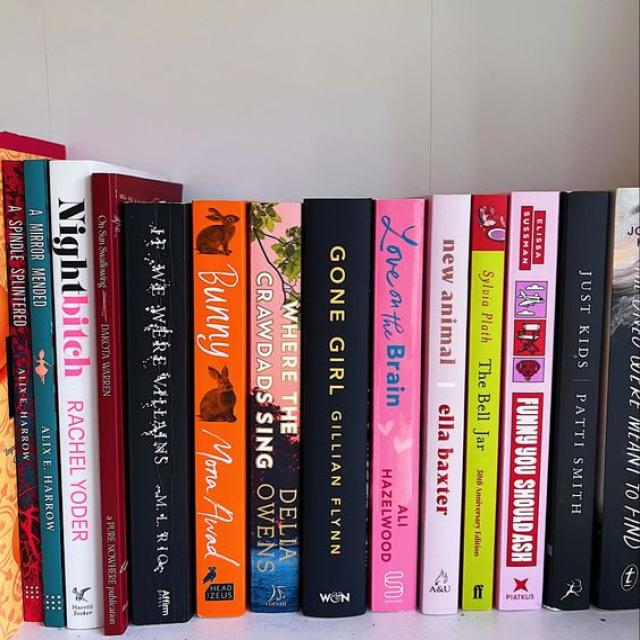book: (50, 161, 142, 629), (92, 174, 182, 634), (300, 200, 372, 616), (123, 202, 192, 624), (542, 192, 610, 610), (492, 192, 558, 610), (369, 199, 423, 611), (194, 200, 247, 616), (418, 195, 469, 613), (249, 204, 300, 612), (460, 195, 506, 610), (24, 161, 64, 625), (2, 160, 41, 620), (596, 188, 637, 610)
